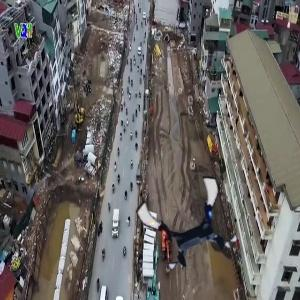drone: (143, 180, 233, 270)
